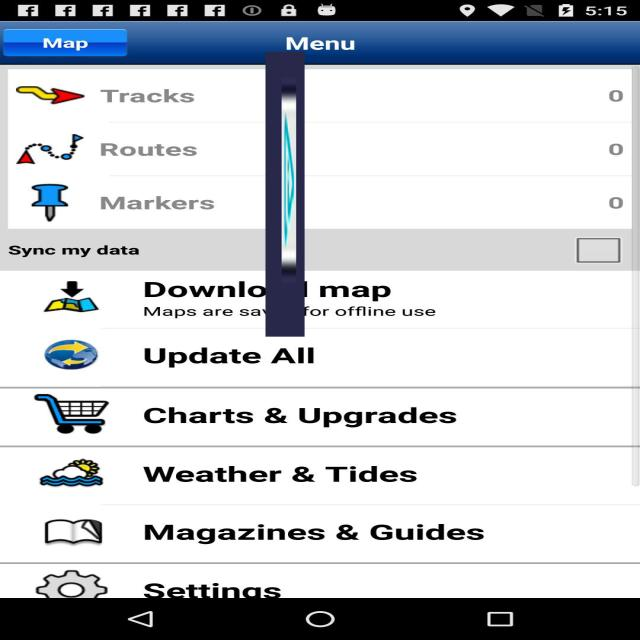sneaking: (266, 51, 304, 336)
